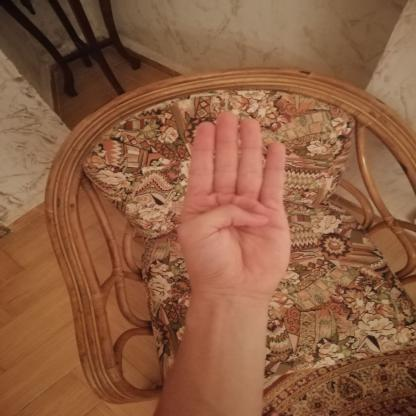KAAF: (160, 103, 304, 303)
